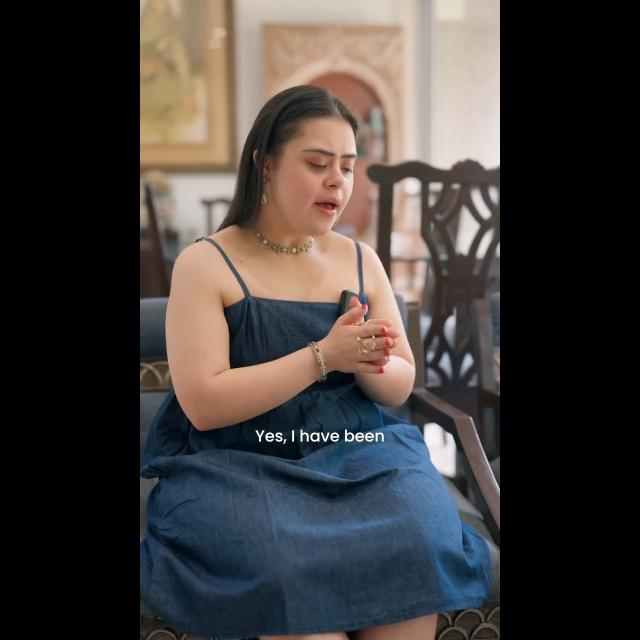dress: (163, 228, 489, 614)
ear ring: (262, 178, 272, 210)
ring: (352, 334, 378, 354)
